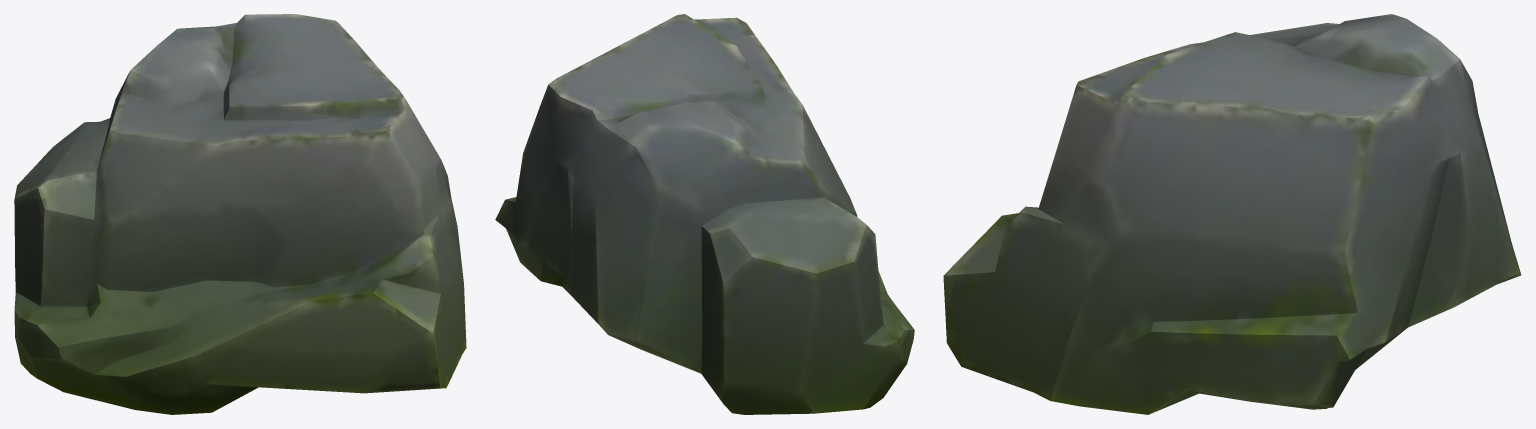
Rendered from rock_a.glb.
3 renders of one model, left to right at view 1: azimuth 30°, elevation 25°; view 2: azimuth 150°, elevation 25°; view 3: azimuth 270°, elevation 25°, orthographic. The views are drawn at different scales.
Visible parts, largest first — view 1: Rock_Medium_3; view 2: Rock_Medium_3; view 3: Rock_Medium_3.
Boxes of the visible parts, left/top/right/bottom form: Rock_Medium_3: left=14, top=14, right=466, bottom=414; Rock_Medium_3: left=495, top=14, right=914, bottom=414; Rock_Medium_3: left=943, top=14, right=1521, bottom=414.
Size of the model in its own units: 3.42 by 2.32 by 3.48.
1 material, 1 textured.
